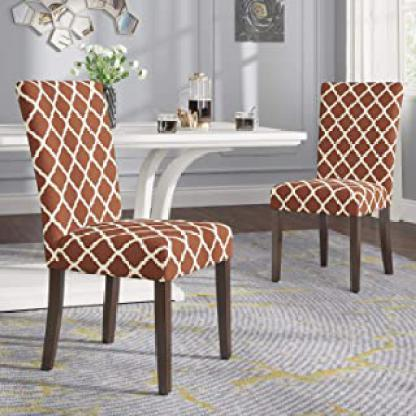chair: (11, 73, 232, 398), (264, 74, 414, 299)
table: (0, 122, 299, 271)
